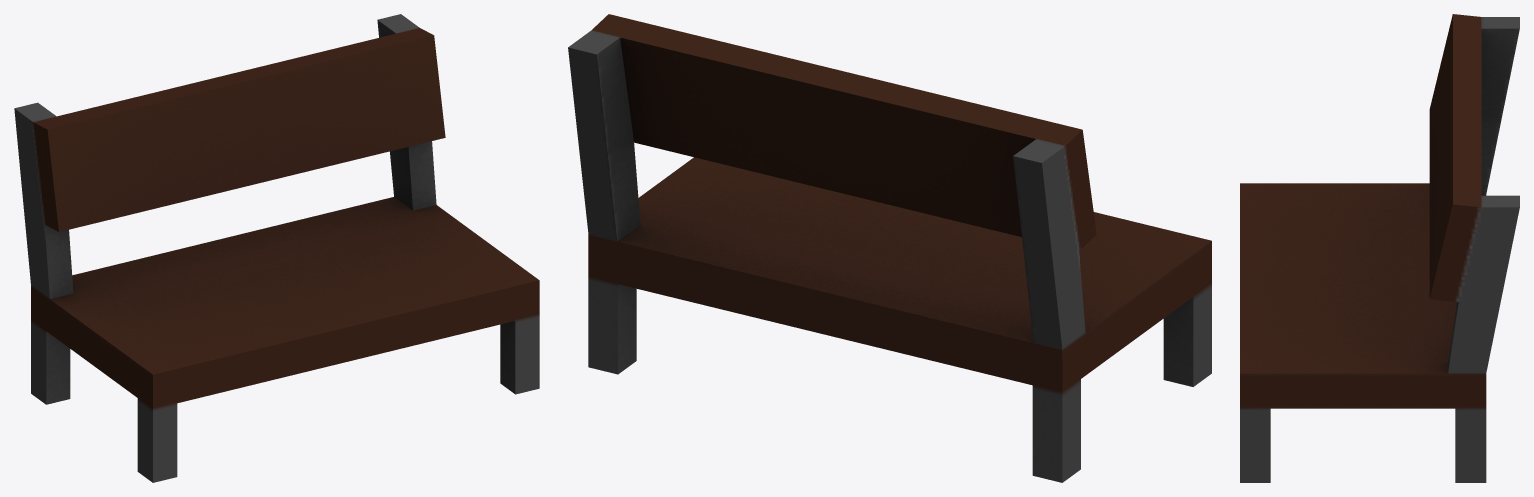
Rendered from JeepSmallSeat.fbx.
The picture shows the model from 3 angles, left to right: view 1: azimuth 30°, elevation 25°; view 2: azimuth 150°, elevation 25°; view 3: azimuth 270°, elevation 25°; orthographic projection. The views are drawn at different scales.
Visible parts, largest first — view 1: Small Seat; view 2: Small Seat; view 3: Small Seat.
Boxes of the visible parts, box(x1,y1,x2,y2) form: Small Seat: box(14, 14, 539, 482); Small Seat: box(568, 14, 1211, 482); Small Seat: box(1240, 14, 1519, 482).
Bounding box in the file's own units: 107 × 72.9 × 66.37.
